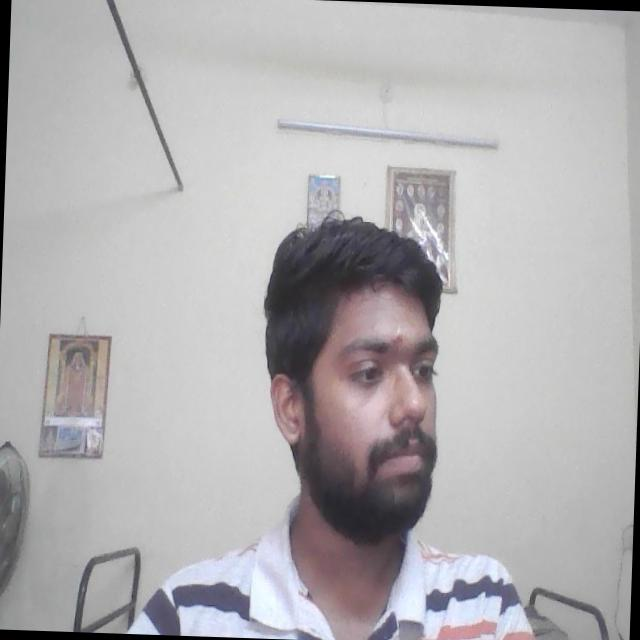Focused: (266, 317, 445, 503)
